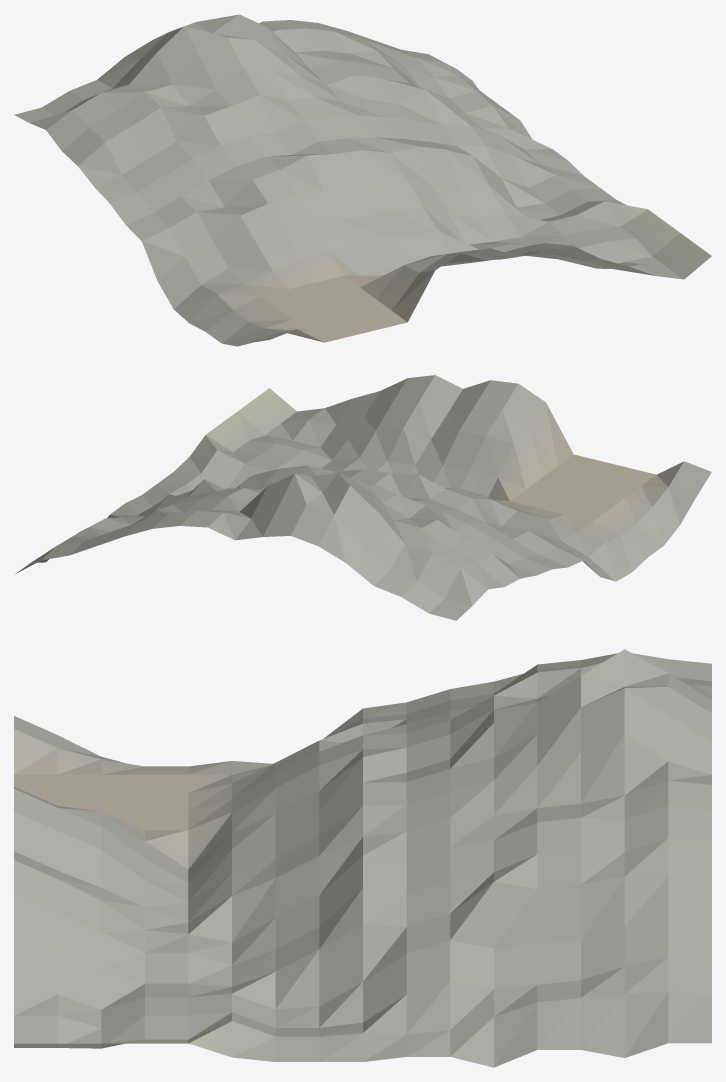
The picture shows the model from 3 angles, top to bottom: view 1: azimuth 30°, elevation 25°; view 2: azimuth 150°, elevation 25°; view 3: azimuth 270°, elevation 25°; orthographic projection. The views are drawn at different scales.
Size of the model in its own units: 32 by 10.93 by 32.
